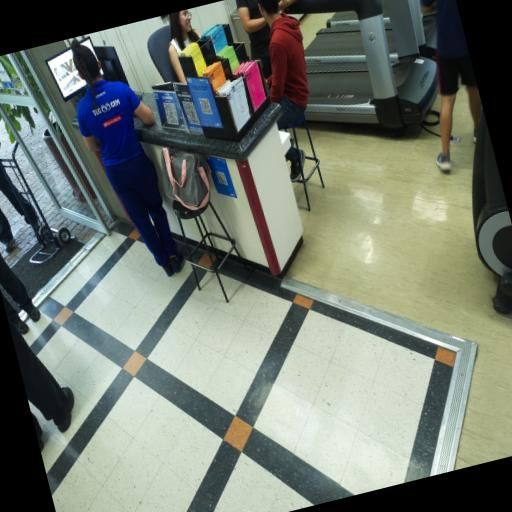person: (71, 40, 183, 275), (422, 0, 482, 171), (9, 324, 74, 432), (258, 0, 309, 129), (236, 0, 272, 77), (0, 253, 40, 321), (169, 10, 200, 82), (0, 165, 38, 223)
